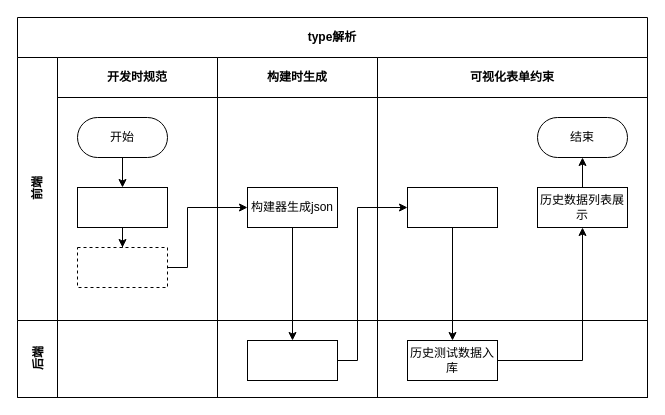
This 665x415 diagram has some shape labels left out. The shapes that lost their labels are listed below. From the top down, each one's centre as x and y in pixels, then its label:
the point at 122,207: 开发时约束规范
the point at 452,207: 可视化处理type参数
the point at 122,267: vscode插件辅助
the point at 292,360: jsonschema信息入库
